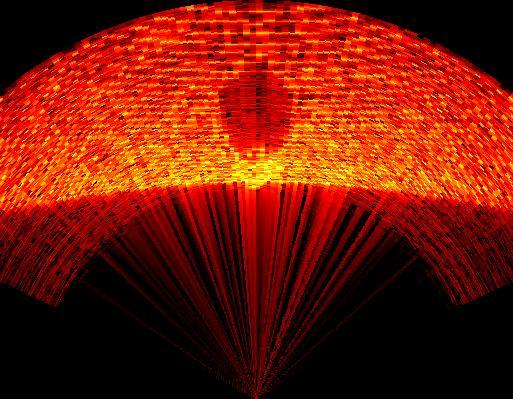box_crate: (219, 62, 292, 159)
